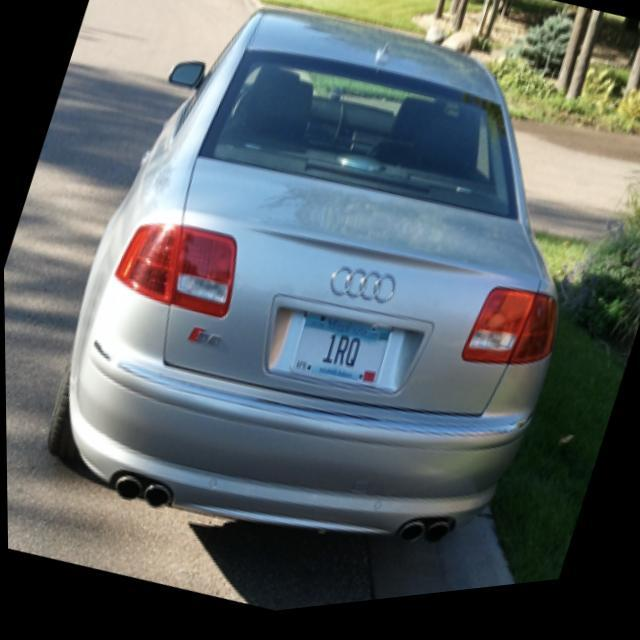license_plate: (280, 308, 398, 406)
